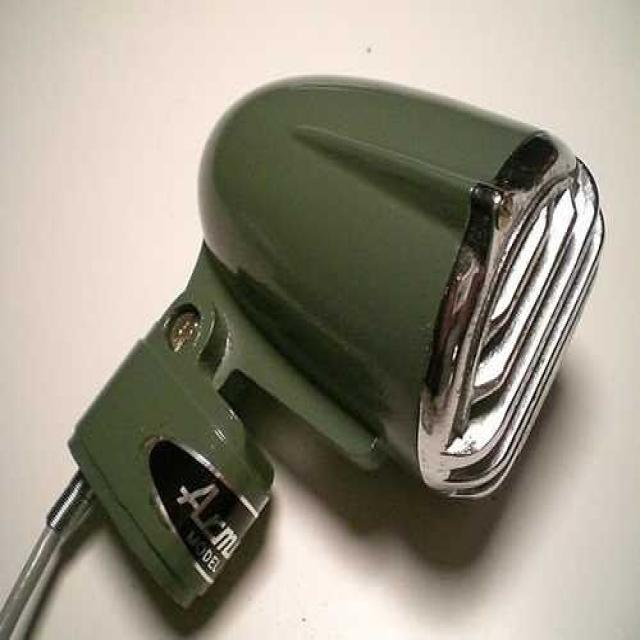microphone: (199, 79, 598, 499)
